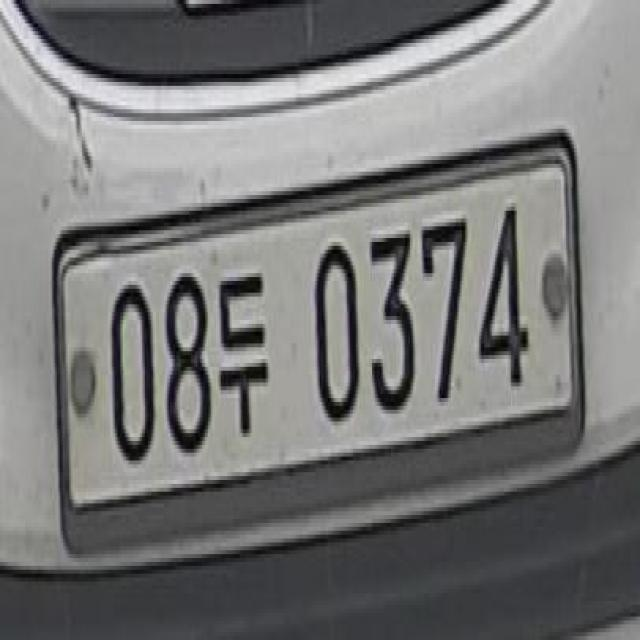illegal_plate: (58, 135, 592, 550)
